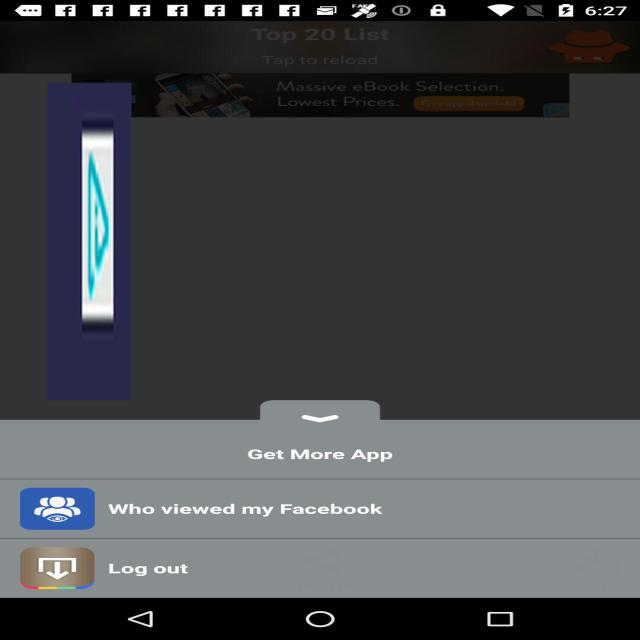sneaking: (47, 83, 132, 400)
